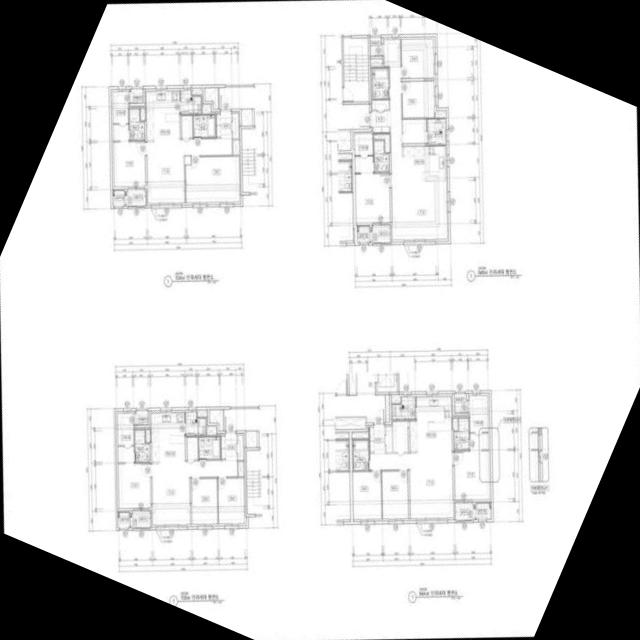background: (0, 0, 640, 640)
space_balconi: (392, 396, 415, 419), (185, 412, 206, 435), (180, 90, 201, 113), (427, 119, 445, 144), (455, 503, 475, 520), (370, 225, 390, 242), (130, 511, 150, 527), (125, 189, 145, 205)
space_bedroom: (185, 156, 239, 202), (355, 173, 390, 223), (454, 451, 489, 500), (118, 463, 150, 508), (113, 141, 145, 186), (352, 471, 381, 519), (401, 39, 433, 78), (382, 471, 408, 518), (191, 478, 217, 524), (402, 81, 434, 118), (218, 478, 244, 523)
space_dressroom: (469, 395, 488, 449), (117, 413, 134, 462), (112, 91, 128, 141), (354, 133, 373, 172)
space_front: (216, 110, 238, 138), (221, 432, 237, 460), (369, 424, 385, 452), (370, 111, 390, 133)
space_kitchen: (409, 396, 452, 451), (151, 412, 185, 462), (146, 91, 180, 140), (402, 145, 446, 181)
space_living_room: (384, 39, 447, 239), (369, 451, 453, 518), (146, 138, 232, 203), (152, 460, 237, 524)
space_other: (402, 119, 426, 143), (392, 421, 407, 452), (209, 409, 223, 431), (204, 87, 218, 109), (373, 134, 389, 152), (454, 393, 468, 412), (181, 115, 192, 138), (186, 437, 197, 459), (370, 37, 382, 56), (134, 410, 148, 425), (129, 89, 143, 103), (246, 430, 257, 447), (241, 109, 252, 125), (372, 99, 389, 109), (386, 426, 392, 452), (237, 435, 243, 460), (385, 395, 389, 422), (351, 433, 368, 438), (233, 140, 239, 154), (238, 461, 243, 476), (370, 58, 382, 64), (207, 427, 215, 435), (202, 105, 210, 113), (145, 430, 150, 442), (452, 418, 457, 430), (140, 108, 145, 120), (392, 396, 400, 403), (197, 411, 206, 417), (435, 112, 445, 117), (192, 90, 201, 95)
space_outdoor_room: (476, 503, 491, 519), (357, 226, 369, 242), (112, 190, 124, 206), (117, 512, 129, 527)
space_staircase: (343, 37, 369, 101)
space_toilet: (352, 439, 369, 470), (373, 140, 389, 172), (198, 436, 220, 459), (193, 115, 215, 137), (454, 417, 469, 449), (134, 430, 149, 462), (372, 68, 388, 98), (129, 108, 144, 140)
